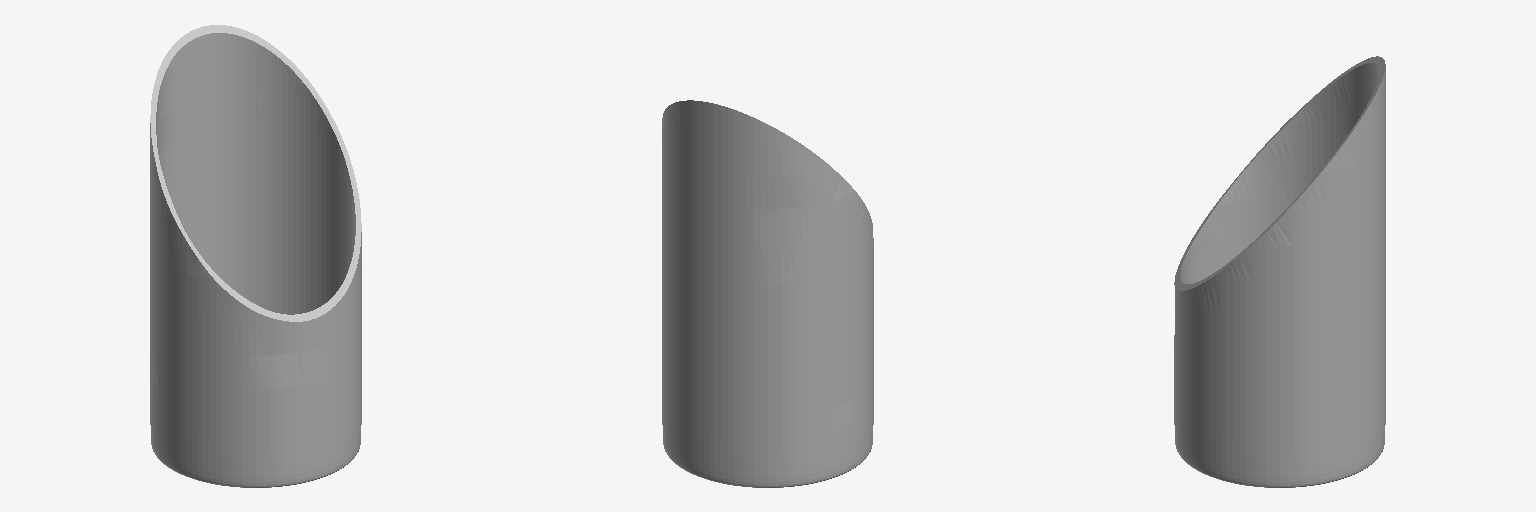
File: borr inf.obj
The picture shows the model from 3 angles: view 1: azimuth 30°, elevation 25°; view 2: azimuth 150°, elevation 25°; view 3: azimuth 270°, elevation 25°; orthographic projection.
Parts seen in each view (by area): view 1: mmGroup0, mmGroup4; view 2: mmGroup0; view 3: mmGroup0, mmGroup4.
Part boxes in pixels (x1,y1,x2,y2): mmGroup0: (150, 33, 361, 487); mmGroup4: (150, 25, 361, 321); mmGroup0: (662, 100, 873, 487); mmGroup0: (1174, 63, 1385, 487); mmGroup4: (1175, 56, 1385, 290).
Size of the model in its own units: 1.91 by 3.81 by 1.91.